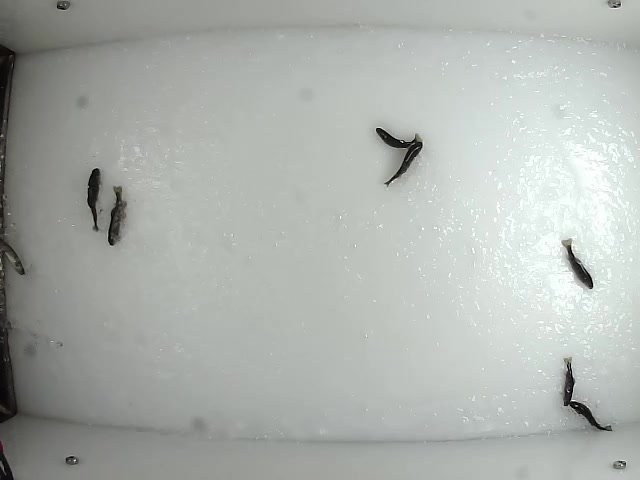fish: (381, 138, 424, 188), (560, 237, 597, 289), (566, 399, 614, 434), (104, 183, 128, 249), (372, 125, 423, 149), (87, 163, 102, 233), (559, 354, 577, 407)
